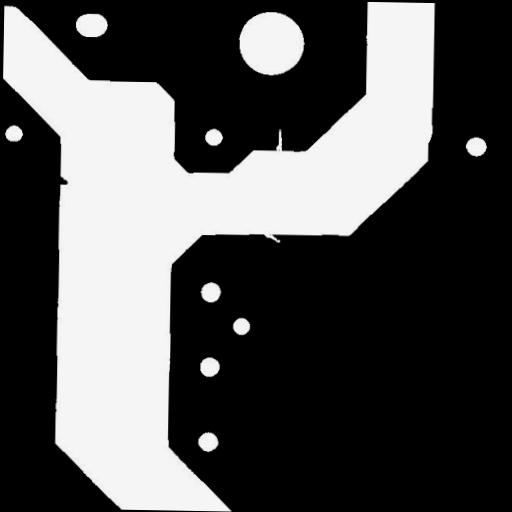mousebite: (268, 122, 290, 162), (256, 224, 288, 250)
pin-hole: (225, 310, 258, 343)
spur: (50, 168, 75, 192)
